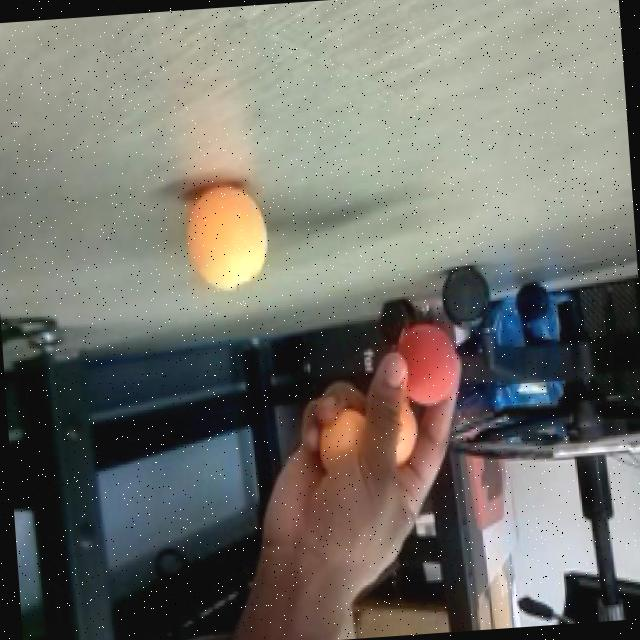ping-pong-ball: (182, 176, 268, 302), (392, 322, 464, 410), (312, 408, 375, 486)
